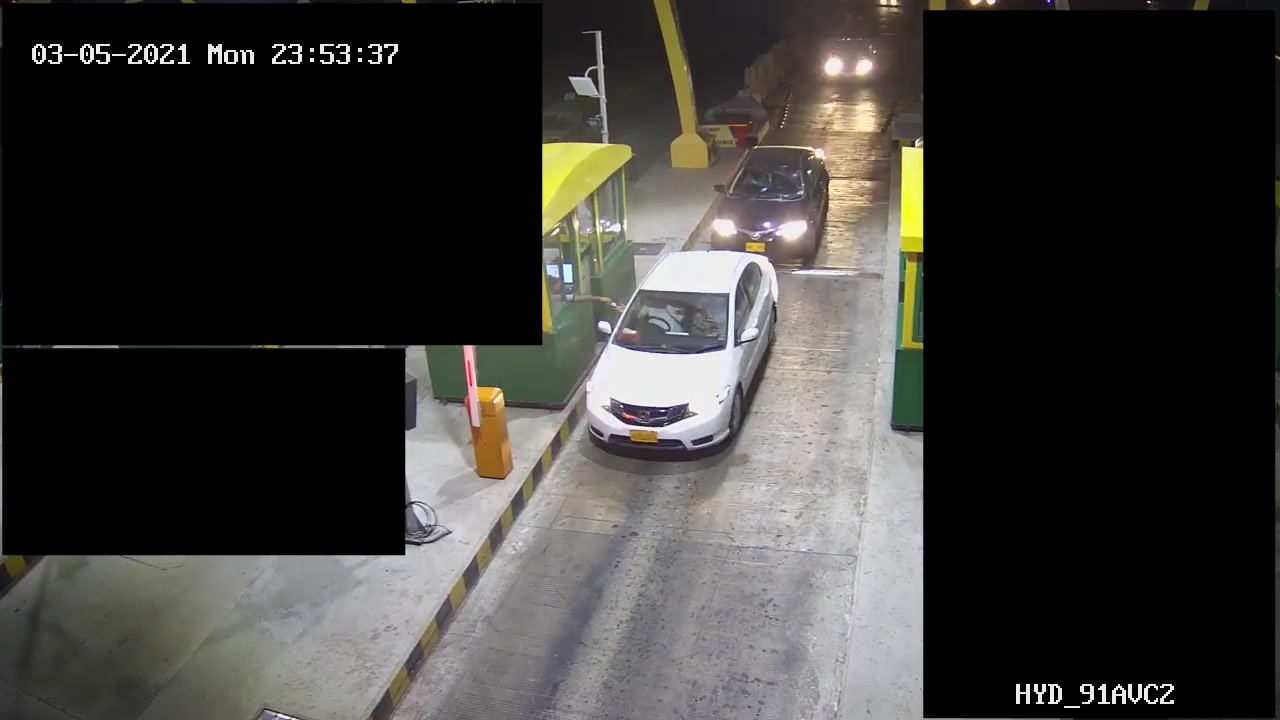F1: (578, 254, 791, 461), (701, 139, 834, 257)
